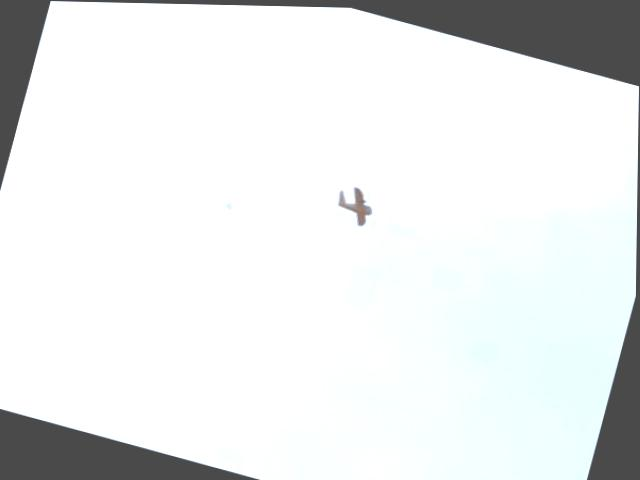uav: (332, 178, 380, 229)
